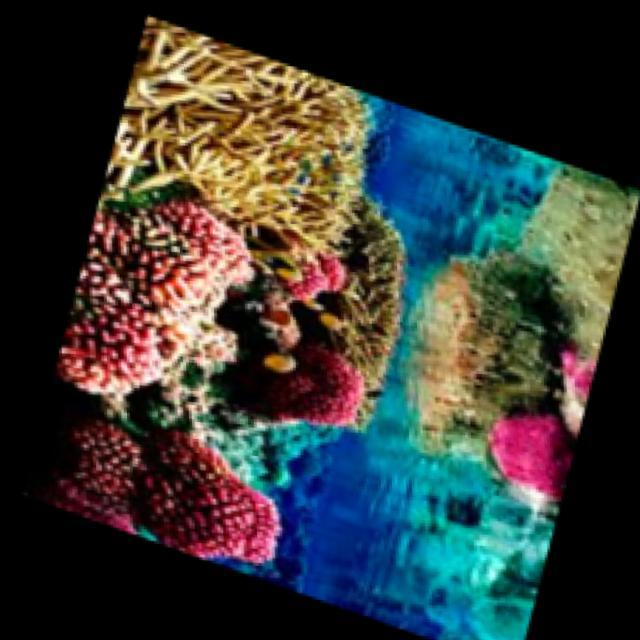Dead Coral: (326, 195, 422, 372)
